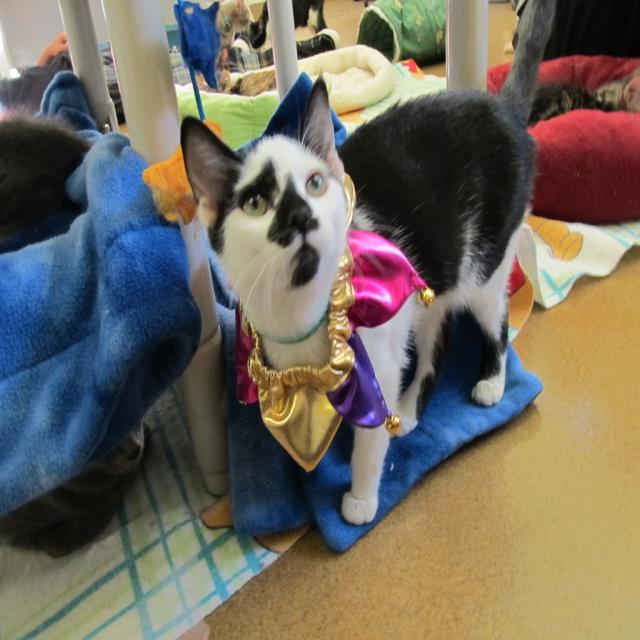Cat: (179, 67, 539, 526)
